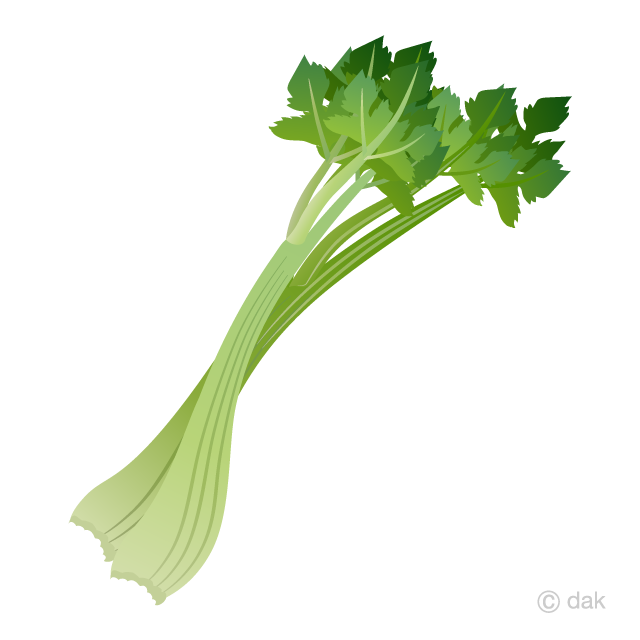Seledri: (54, 26, 531, 593)
